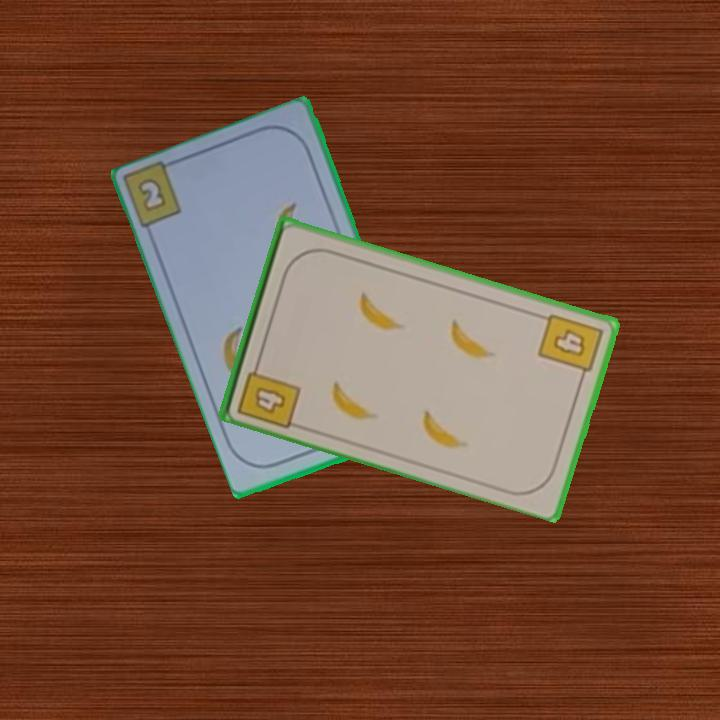2b: (137, 177, 167, 211)
4b: (534, 309, 606, 384), (233, 354, 303, 431)
